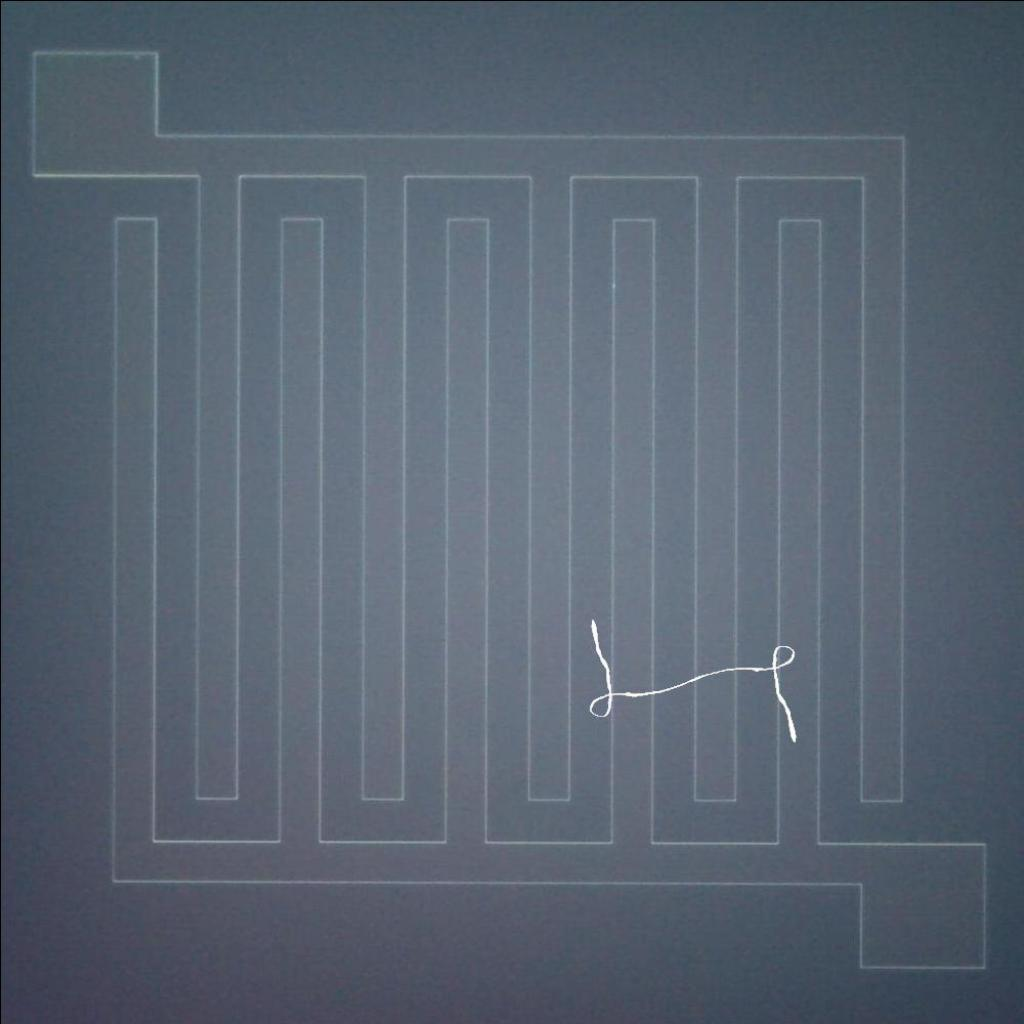line: (578, 607, 810, 758)
